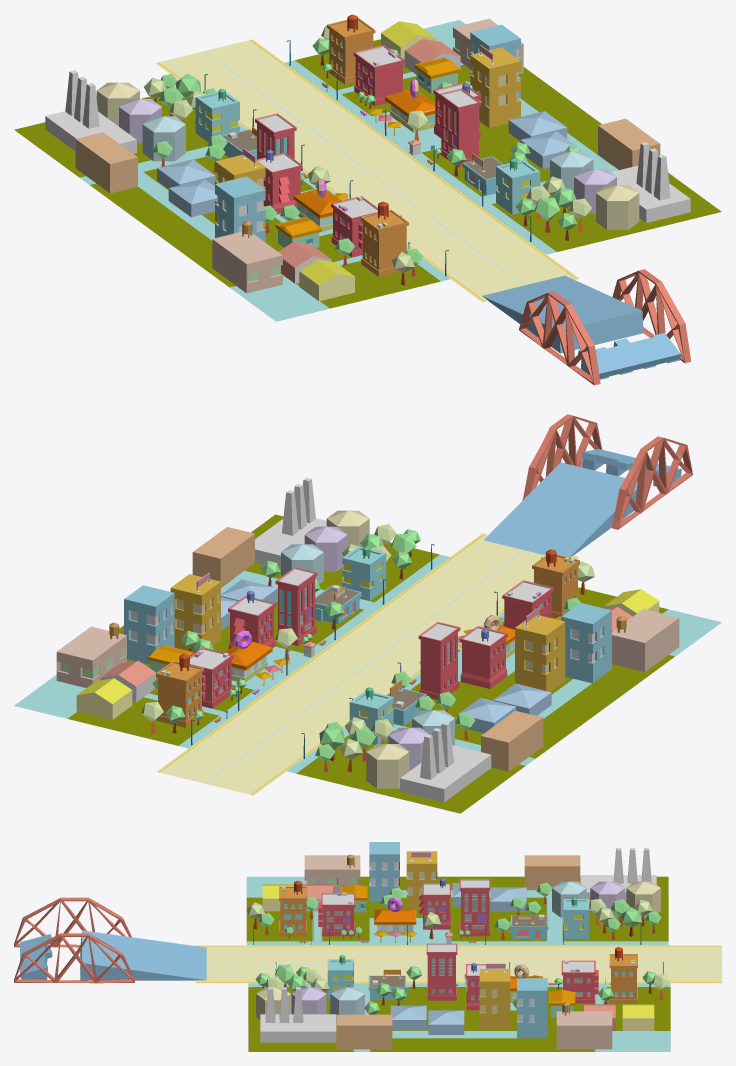
File: city_pre_3.glb
3 renders of one model, top to bottom at view 1: azimuth 30°, elevation 25°; view 2: azimuth 150°, elevation 25°; view 3: azimuth 270°, elevation 25°, orthographic. The views are drawn at different scales.
Visible parts, largest first — view 1: ground road, ground, ground.001, bridge.016, bridge.018, third_plan building.001, second_plan building, factory building.002, bridge.001, second_plan building.004, bridge.014, building.003 (+37 smaller); view 2: ground road, ground.001, ground, bridge.016, bridge.018, second_plan building.002, second_plan building.004, second_plan building.001, third_plan building.001, third_plan building, second_plan building, factory building.002 (+31 smaller); view 3: ground road, ground.001, ground, bridge.016, third_plan building, bridge.001, factory building, factory building.006, second_plan building, second_plan building.001, third_plan building.001, building.003 (+32 smaller).
Part boxes in pixels (x1,y1,x2,y2): ground road: (156, 39, 579, 302); ground: (284, 20, 721, 254); ground.001: (14, 96, 450, 321); bridge.016: (482, 275, 643, 353); bridge.018: (519, 291, 600, 385); third_plan building.001: (212, 231, 282, 293); second_plan building: (470, 47, 520, 128); factory building.002: (75, 132, 137, 193); bridge.001: (612, 269, 690, 363); second_plan building.004: (215, 176, 265, 242); bridge.014: (578, 333, 680, 379); building.003: (439, 88, 480, 167); ground road: (157, 533, 578, 795); ground.001: (286, 587, 721, 813); ground: (14, 514, 449, 748); bridge.016: (484, 462, 637, 557); bridge.018: (612, 436, 692, 529); second_plan building.002: (515, 615, 565, 691); second_plan building.004: (561, 603, 611, 683); second_plan building.001: (124, 585, 174, 664); third_plan building.001: (612, 609, 679, 671); third_plan building: (56, 626, 126, 687); second_plan building: (170, 574, 220, 652); factory building.002: (481, 710, 543, 771); ground road: (195, 945, 721, 983); ground.001: (246, 876, 668, 945); ground: (248, 983, 670, 1051); bridge.016: (80, 930, 206, 980); third_plan building: (556, 1011, 612, 1049); bridge.001: (14, 933, 134, 983); factory building: (336, 1014, 392, 1049); factory building.006: (260, 1014, 336, 1042); second_plan building: (479, 969, 510, 1029); second_plan building.001: (517, 978, 547, 1038); third_plan building.001: (304, 855, 360, 892); building.003: (426, 943, 457, 1000).
Size of the model in its own units: 31.94 by 4.96 by 54.47.
Materials: 41 (22 with a texture image).
